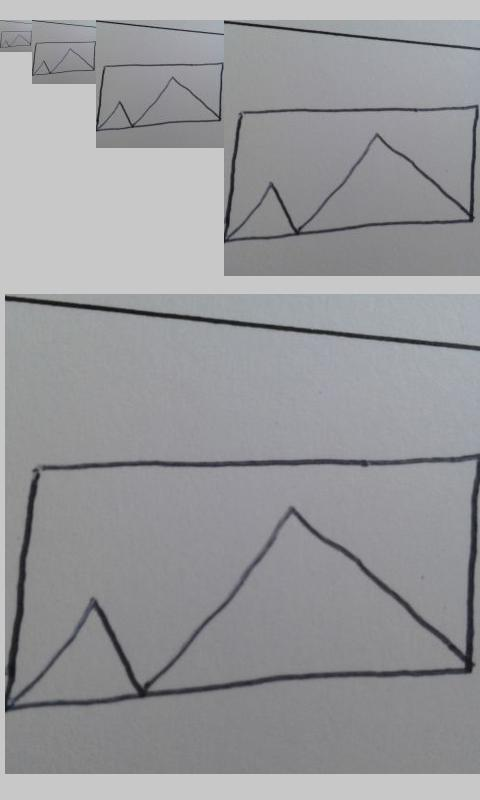image_view: (11, 451, 479, 713), (226, 104, 480, 242), (97, 61, 222, 132), (32, 40, 96, 77), (1, 30, 31, 49)
